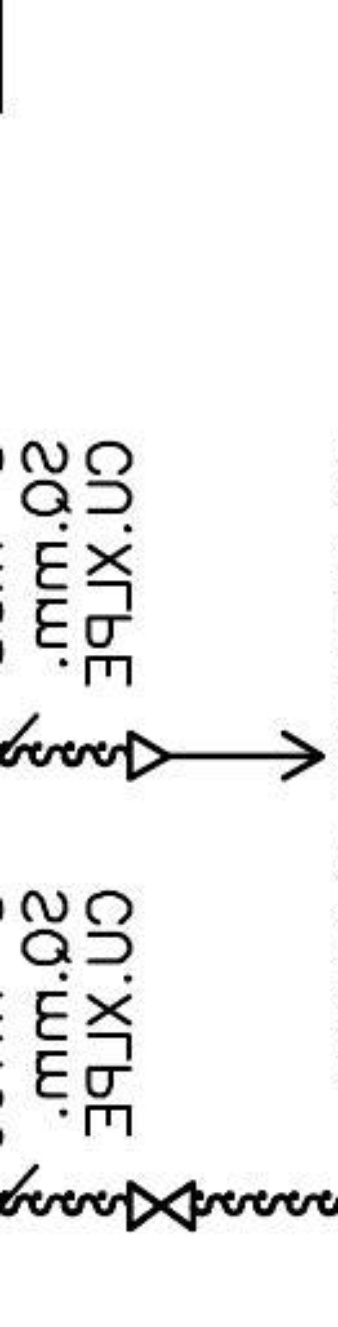terminator_single: (123, 729, 173, 787)
terminator_splicing_kits: (126, 1178, 198, 1233)
